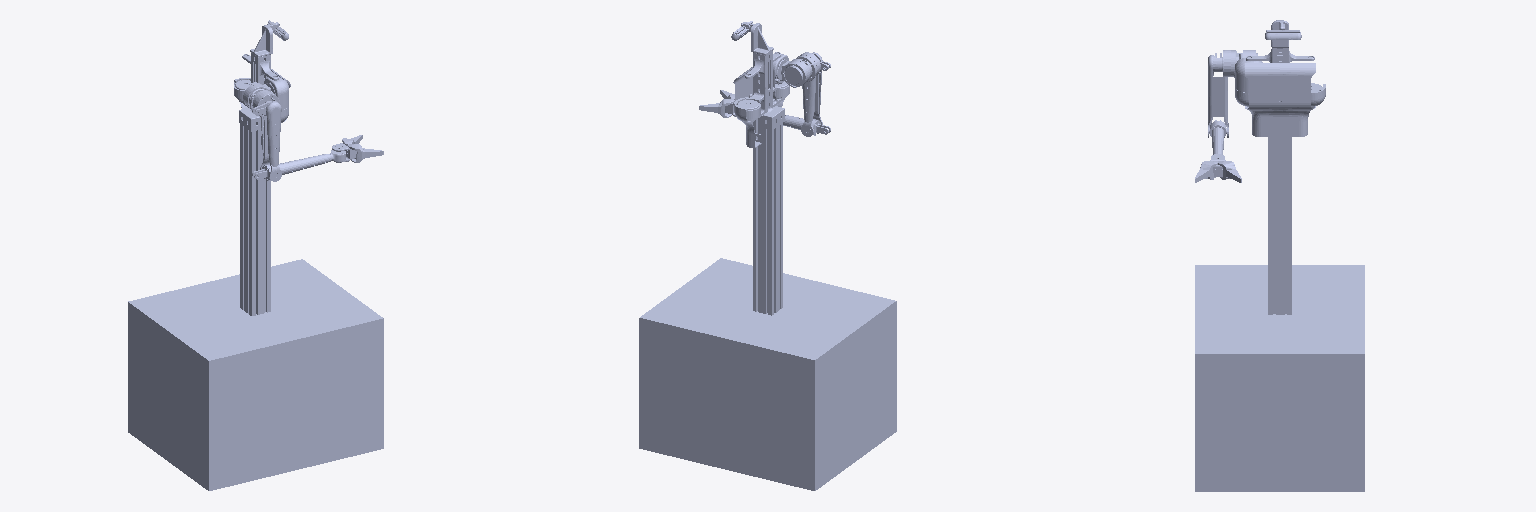
The robot description file, URDF, robot "RobotBimanualV4":
<?xml version="1.0" encoding="utf-8"?>
<!-- This URDF was automatically created by SolidWorks to URDF Exporter! Originally created by [author] ([email redacted]) 
     Commit Version: 1.6.0-4-g7f85cfe  Build Version: 1.6.7995.38578
     For more information, please see http://wiki.ros.org/sw_urdf_exporter -->
<robot
  name="RobotBimanualV4">
  <link name="base_link_mobile">
    <inertial>
      <mass value="0.0"/>
      <origin rpy="0 0 0" xyz="0 0 0"/>
      <inertia ixx="0.0" ixy="0.0" ixz="0.0" iyy="0.0" iyz="0.0" izz="0.0"/>
    </inertial>
  </link>
  <joint name="base_link-base_link_inertia" type="fixed">
    <parent link="base_link_mobile"/>
    <child link="base_link"/>
    <origin rpy="0 0 0" xyz="0 0 0"/>
  </joint>
  <link
    name="base_link">
    <inertial>
      <origin
        xyz="0.00507379776771603 0.000344479206440096 0.493021917987909"
        rpy="0 0 0" />
      <mass
        value="6.48543411303863" />
      <inertia
        ixx="0.337312998632581"
        ixy="-7.79460815808494E-06"
        ixz="-0.00341337207209014"
        iyy="0.336184764674995"
        iyz="2.35532268575879E-05"
        izz="0.00769415237418266" />
    </inertial>
    <visual>
      <origin
        xyz="0 0 0"
        rpy="0 0 0" />
      <geometry>
        <!-- <mesh
          filename="package://RobotBimanualV4//visual/base_link.obj" /> -->
        <mesh
          filename="package://RobotBimanualV4//visual/base_mobile.obj" />
      </geometry>
      <material
        name="">
        <color
          rgba="0.792156862745098 0.819607843137255 0.933333333333333 1" />
      </material>
    </visual>
    <collision>
      <origin
        xyz="0 0 0"
        rpy="0 0 0" />
      <geometry>
        <!-- <mesh
          filename="package://RobotBimanualV4//collision/base_link.obj" /> -->
        <mesh
          filename="package://RobotBimanualV4//collision/cvx_base_mobile.obj" />
      </geometry>
    </collision>
  </link>
  <link
    name="link7">
    <inertial>
      <origin
        xyz="0.00239406 -0.00016204 0.05155291"
        rpy="0 0 0" />
      <mass
        value="0.706" />
      <inertia
        ixx="0.00074592"
        ixy="-2.03E-06"
        ixz="-1.52E-06"
        iyy="0.00053798"
        iyz="-3.35E-06"
        izz="0.00050821" />
    </inertial>
    <visual>
      <origin
        xyz="0 0 0"
        rpy="0 0 0" />
      <geometry>
        <mesh
          filename="package://RobotBimanualV4//visual/link7.obj" />
      </geometry>
      <material
        name="">
        <color
          rgba="0.79216 0.81961 0.93333 1" />
      </material>
    </visual>
    <collision>
      <origin
        xyz="0 0 0"
        rpy="0 0 0" />
      <geometry>
        <mesh
          filename="package://RobotBimanualV4//collision/cvx_link7.obj" />
      </geometry>
    </collision>
  </link>
  <joint
    name="joint7"
    type="revolute">
    <origin
      xyz="0.02 -0.1036 0.8358"
      rpy="0 0 0" />
    <parent
      link="base_link" />
    <child
      link="link7" />
    <axis
      xyz="0 0 1" />
    <limit
      lower="-3"
      upper="3"
      effort="4"
      velocity="10.00" />  
  </joint>
  <link
    name="link8">
    <inertial>
      <origin
        xyz="-0.00124394 7.606E-05 0.05454155"
        rpy="0 0 0" />
      <mass
        value="0.659" />
      <inertia
        ixx="0.00064811"
        ixy="-1.1E-06"
        ixz="-7.3E-07"
        iyy="0.0004522"
        iyz="1.03E-06"
        izz="0.00043369" />
    </inertial>
    <visual>
      <origin
        xyz="0 0 0"
        rpy="0 0 0" />
      <geometry>
        <mesh
          filename="package://RobotBimanualV4//visual/link8.obj" />
      </geometry>
      <material
        name="">
        <color
          rgba="0.79216 0.81961 0.93333 1" />
      </material>
    </visual>
    <collision>
      <origin
        xyz="0 0 0"
        rpy="0 0 0" />
      <geometry>
        <mesh
          filename="package://RobotBimanualV4//collision/cvx_link8.obj" />
      </geometry>
    </collision>
  </link>
  <joint
    name="joint8"
    type="revolute">
    <origin
      xyz="-0.02205 0 0.0528"
      rpy="1.5708 0 -1.5708" />
    <parent
      link="link7" />
    <child
      link="link8" />
    <axis
      xyz="0 0 1" />
    <limit
      lower="-3"
      upper="3"
      effort="4"
      velocity="10.00" />
  </joint>
  <link
    name="link9">
    <inertial>
      <origin
        xyz="-0.03505563 0.00468094 0.05453087"
        rpy="0 0 0" />
      <mass
        value="1.095" />
      <inertia
        ixx="0.00161845"
        ixy="-0.00039365"
        ixz="-0.00105521"
        iyy="0.00662637"
        iyz="0.00018923"
        izz="0.00652496" />
    </inertial>
    <visual>
      <origin
        xyz="0 0 0"
        rpy="0 0 0" />
      <geometry>
        <mesh
          filename="package://RobotBimanualV4//visual/link9.obj" />
      </geometry>
      <material
        name="">
        <color
          rgba="0.79216 0.81961 0.93333 1" />
      </material>
    </visual>
    <collision>
      <origin
        xyz="0 0 0"
        rpy="0 0 0" />
      <geometry>
        <mesh
          filename="package://RobotBimanualV4//collision/cvx_link9.obj" />
      </geometry>
    </collision>
  </link>
  <joint
    name="joint9"
    type="revolute">
    <origin
      xyz="0.023 0 0.0565"
      rpy="1.5708 0 1.5708" />
    <parent
      link="link8" />
    <child
      link="link9" />
    <axis
      xyz="0 0 1" />
    <limit
      lower="-3"
      upper="3.14159265"
      effort="4"
      velocity="10.00" />
  </joint>
  <link
    name="link10">
    <inertial>
      <origin
        xyz="-0.00914828 -0.00042727 7.13E-06"
        rpy="0 0 0" />
      <mass
        value="0.268" />
      <inertia
        ixx="9.136E-05"
        ixy="7E-08"
        ixz="2E-08"
        iyy="0.00013894"
        iyz="0"
        izz="0.00013031" />
    </inertial>
    <visual>
      <origin
        xyz="0 0 0"
        rpy="0 0 0" />
      <geometry>
        <mesh
          filename="package://RobotBimanualV4//visual/link10.obj" />
      </geometry>
      <material
        name="">
        <color
          rgba="0.79216 0.81961 0.93333 1" />
      </material>
    </visual>
    <collision>
      <origin
        xyz="0 0 0"
        rpy="0 0 0" />
      <geometry>
        <mesh
          filename="package://RobotBimanualV4//collision/cvx_link10.obj" />
      </geometry>
    </collision>
  </link>
  <joint
    name="joint10"
    type="revolute">
    <origin
      xyz="-0.25 0 0.08318"
      rpy="-3.1416 0 -1.5708" />
    <parent
      link="link9" />
    <child
      link="link10" />
    <axis
      xyz="0 0 1" />
    <limit
      lower="-3"
      upper="3"
      effort="4"
      velocity="10.00" />
  </joint>
  <link
    name="link11">
    <inertial>
      <origin
        xyz="-0.00143459 -5.019E-05 0.22261684"
        rpy="0 0 0" />
      <mass
        value="0.285" />
      <inertia
        ixx="0.00170458"
        ixy="1.5E-07"
        ixz="-2.111E-05"
        iyy="0.00168732"
        iyz="-5.6E-07"
        izz="7.029E-05" />
    </inertial>
    <visual>
      <origin
        xyz="0 0 0"
        rpy="0 0 0" />
      <geometry>
        <mesh
          filename="package://RobotBimanualV4//visual/link11.obj" />
      </geometry>
      <material
        name="">
        <color
          rgba="0.79216 0.81961 0.93333 1" />
      </material>
    </visual>
    <collision>
      <origin
        xyz="0 0 0"
        rpy="0 0 0" />
      <geometry>
        <mesh
          filename="package://RobotBimanualV4//collision/cvx_link11.obj" />
      </geometry>
    </collision>
  </link>
  <joint
    name="joint11"
    type="revolute">
    <origin
      xyz="0.014 0.00010349 0"
      rpy="-1.5708 0 -1.5708" />
    <parent
      link="link10" />
    <child
      link="link11" />
    <axis
      xyz="0 0 1" />
    <limit
      lower="-3.66519143"
      upper="3"
      effort="1"
      velocity="15.00" />
  </joint>


  
  <link
    name="link11-1">
    <inertial>
      <origin
        xyz="0 0 0"
        rpy="0 0 0" />
      <mass
        value="0.01" />
      <inertia
        ixx="0.00017786"
        ixy="1.81E-06"
        ixz="5.4E-07"
        iyy="0.00025338"
        iyz="-3.72E-06"
        izz="0.00030962" />
    </inertial>
    <visual>
      <origin
        xyz="0 0 0"
        rpy="0 0 0" />
      <geometry>
        <!-- <mesh filename="package://RobotBimanualV4//visual/link12.obj" scale="0.001 0.001 0.001"/> -->
        <mesh filename="package://RobotBimanualV4//gripper_urdf/meshes/base_link.STL" scale="0.5 0.5 0.5"/>
      </geometry>
      <material
        name="">
        <color
          rgba="0.79216 0.81961 0.93333 1" />
      </material>
    </visual>
    <collision>
      <origin
        xyz="0 0 0"
        rpy="0 0 0" />
      <geometry>
        <!-- <mesh filename="package://RobotBimanualV4//collision/cvx_link12.obj" scale="0.001 0.001 0.001"/> -->
        <!-- <mesh filename="package://RobotBimanualV4//collision/cvx_link12.obj" scale="0.001 0.001 0.001"/> -->
        <mesh filename="package://RobotBimanualV4//gripper_urdf/meshes/base_link.STL" scale="0.5 0.5 0.5"/>
      </geometry>
    </collision>
  </link>
  <joint
      name="joint11-1"
      type="revolute">
      <origin
        xyz="0.012203 0 0.2634"
        rpy="1.5708 0 1.5708" />
      <parent
        link="link11" />
      <child
        link="link11-1" />
      <axis
        xyz="1 0 0" />
      <limit
        lower="-3"
        upper="3"
        effort="1"
        velocity="15.0" />
    </joint>



  <link
    name="link12">
    <inertial>
      <origin
        xyz="0.0001185 0.04488721 -0.01444679"
        rpy="0 0 0" />
      <mass
        value="0.23067563" />
      <inertia
        ixx="0.00017786"
        ixy="1.81E-06"
        ixz="5.4E-07"
        iyy="0.00025338"
        iyz="-3.72E-06"
        izz="0.00030962" />
    </inertial>
    <visual>
      <origin
        xyz="0 0 0"
        rpy="0 0 0" />
      <geometry>
        <!-- <mesh filename="package://RobotBimanualV4//visual/link12.obj" /> -->
        <!-- <mesh filename="package://RobotBimanualV4//visual/gripper_open20.obj" /> -->
        <mesh filename="package://RobotBimanualV4//visual/gripper_open40.obj" />
      </geometry>
      <material
        name="">
        <color
          rgba="0.79216 0.81961 0.93333 1" />
      </material>
    </visual>
    <collision>
      <origin
        xyz="0 0 0"
        rpy="0 0 0" />
      <geometry>
        <!-- <mesh filename="package://RobotBimanualV4//collision/cvx_link12.obj" /> -->
        <!-- <mesh filename="package://RobotBimanualV4//collision/cvx_gripper_open20.obj" /> -->
        <mesh filename="package://RobotBimanualV4//collision/cvx_gripper_open40.obj" />
      </geometry>
    </collision>
  </link>
  <joint
    name="joint12"
    type="revolute">
    <origin
      xyz="0 0 0 "
      rpy="0 0 0" />
    <parent
      link="link11-1" />
    <child
      link="link12" />
    <axis
      xyz="0 0 1" />
    <limit
      lower="-3"
      upper="3"
      effort="1"
      velocity="15.00" />
  </joint>
</robot>

--- Facts derived from the render (not from the file) ---
The picture shows the robot from 3 angles, left to right: view 1: azimuth 30°, elevation 25°; view 2: azimuth 150°, elevation 25°; view 3: azimuth 270°, elevation 25°; orthographic projection.
Model RobotBimanualV4 with 9 links and 8 joints (7 revolute, 1 fixed), rooted at base_link_mobile, posed every joint at zero.
Links seen in each view (by area): view 1: base_link, link9, link11, link12; view 2: base_link, link9, link8; view 3: base_link, link9, link12.
Boxes of the visible links, bbox=[...] form: base_link: bbox=[128, 20, 383, 490]; link9: bbox=[250, 90, 281, 181]; link11: bbox=[279, 150, 345, 174]; link12: bbox=[332, 135, 383, 162]; base_link: bbox=[639, 21, 896, 490]; link9: bbox=[793, 52, 830, 136]; link8: bbox=[781, 59, 809, 87]; base_link: bbox=[1195, 20, 1364, 491]; link9: bbox=[1208, 50, 1242, 137]; link12: bbox=[1195, 154, 1241, 182].
Bounding box of the posed robot: 0.7175 × 0.5766 × 1.61 m (x, y, z).
Meshes: 8 distinct files referenced, 8 mesh visuals loaded (1 binary STL, 7 OBJ).